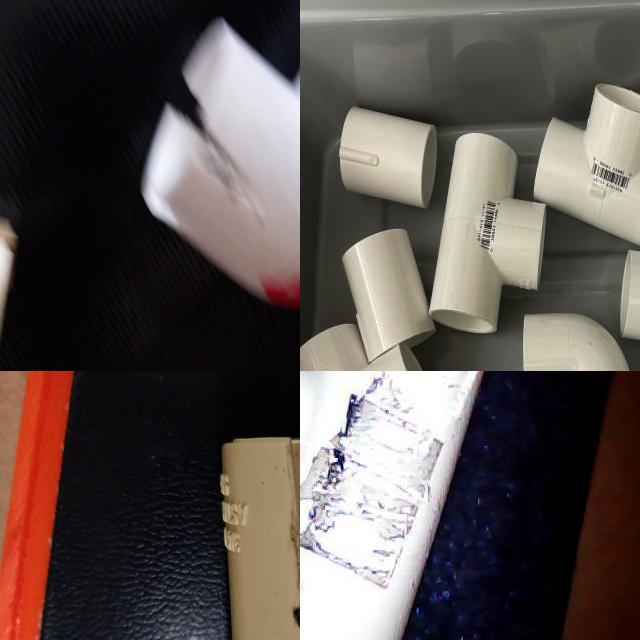Defective: (300, 371, 450, 603), (195, 490, 214, 629), (459, 371, 509, 402)
L Joint: (0, 0, 239, 235), (96, 452, 300, 640), (522, 313, 631, 371), (300, 324, 423, 371)
T Joint: (300, 371, 485, 640), (428, 134, 544, 336), (534, 84, 640, 253)
